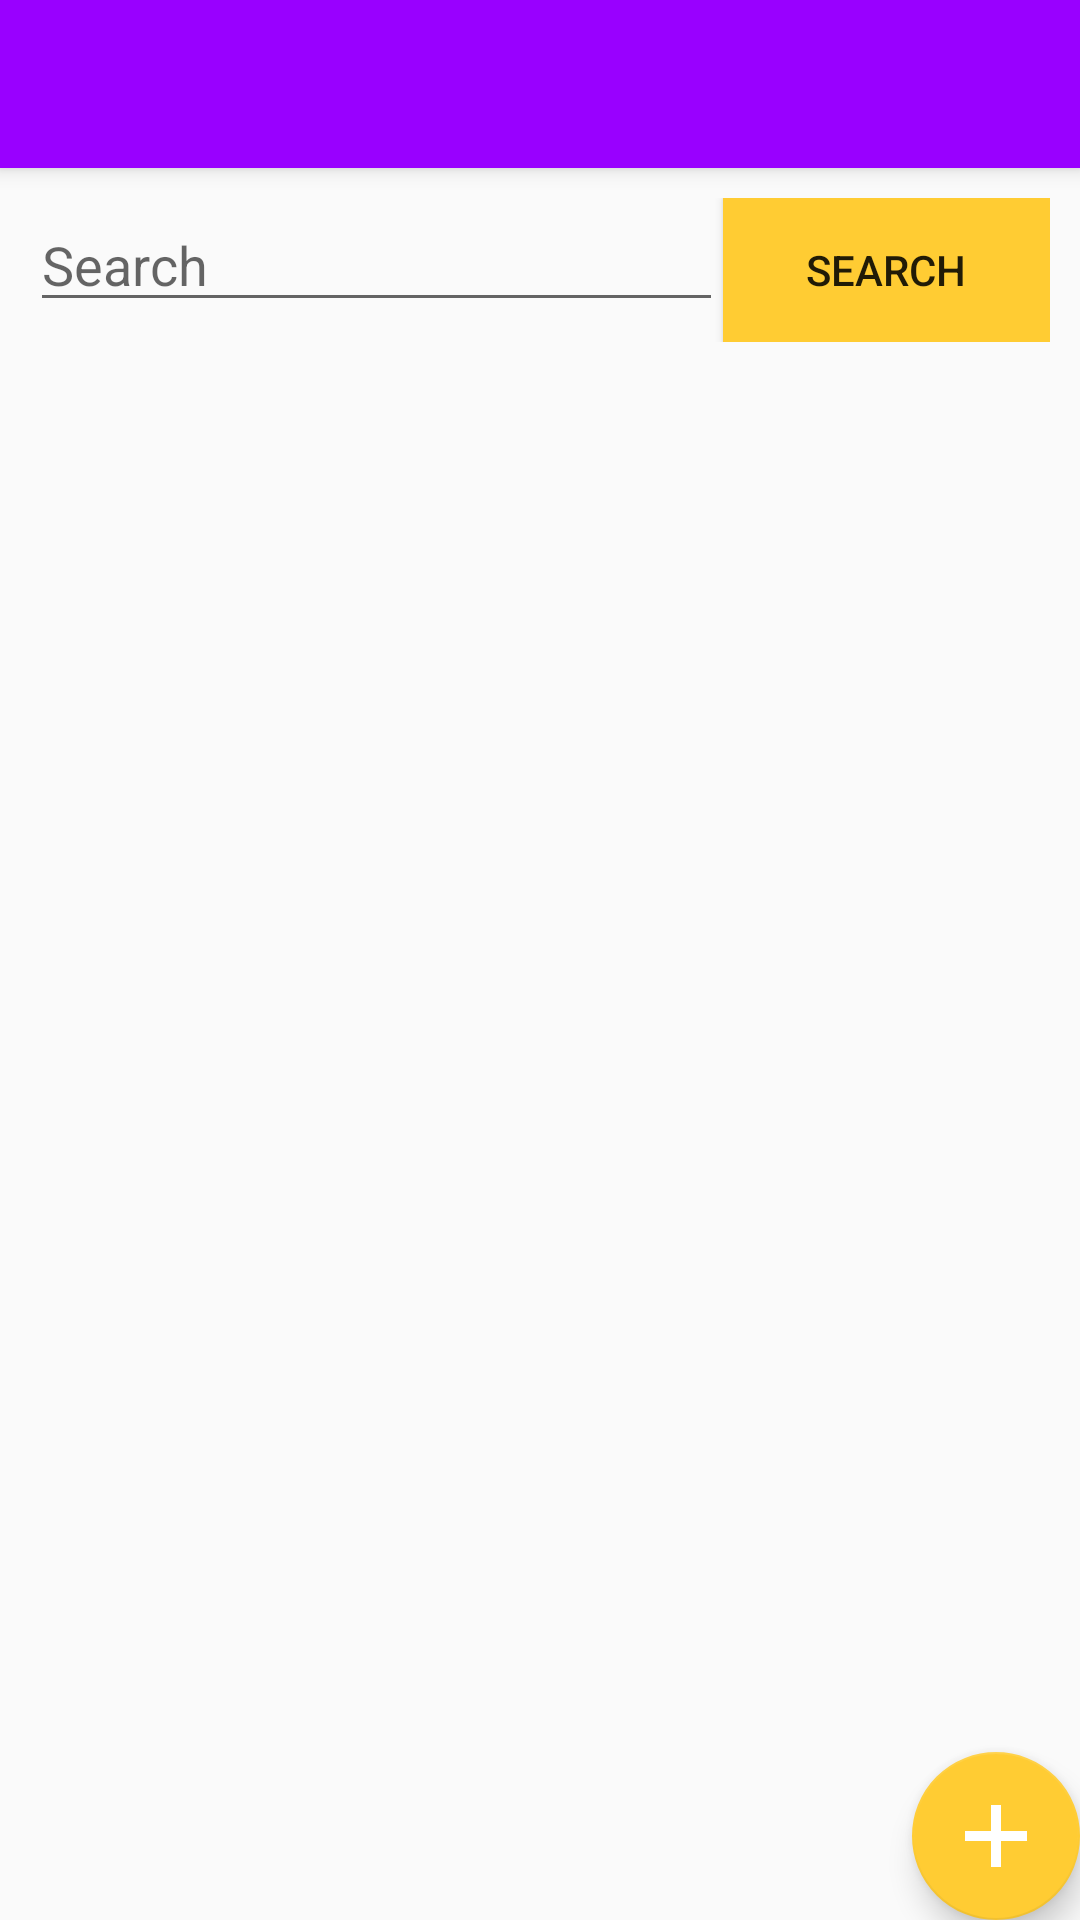

Icon bounding boxes for this 1080*1920 phone screenshot, format (x1,y1,x2,y2):
plus: (912,1752,1080,1920)
